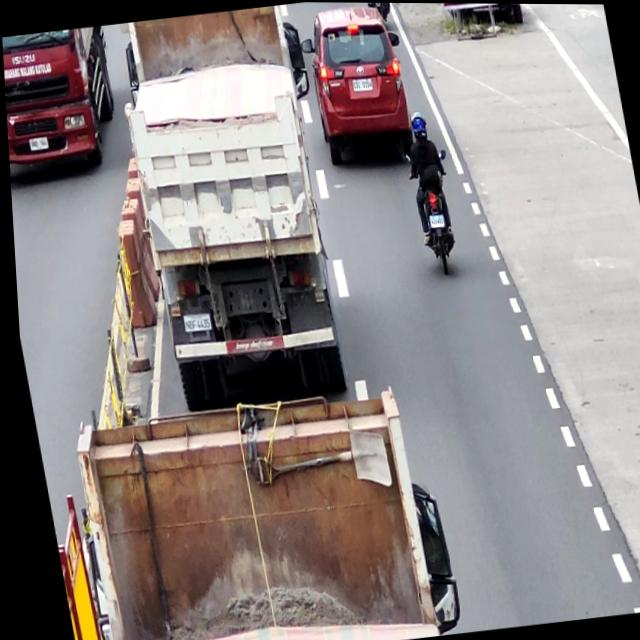Car: (293, 2, 419, 160)
License-Plate: (178, 313, 207, 334), (349, 75, 372, 92), (426, 213, 443, 229)
Motorcycle: (401, 146, 462, 278)
Truck: (27, 375, 456, 640), (110, 2, 362, 411)
